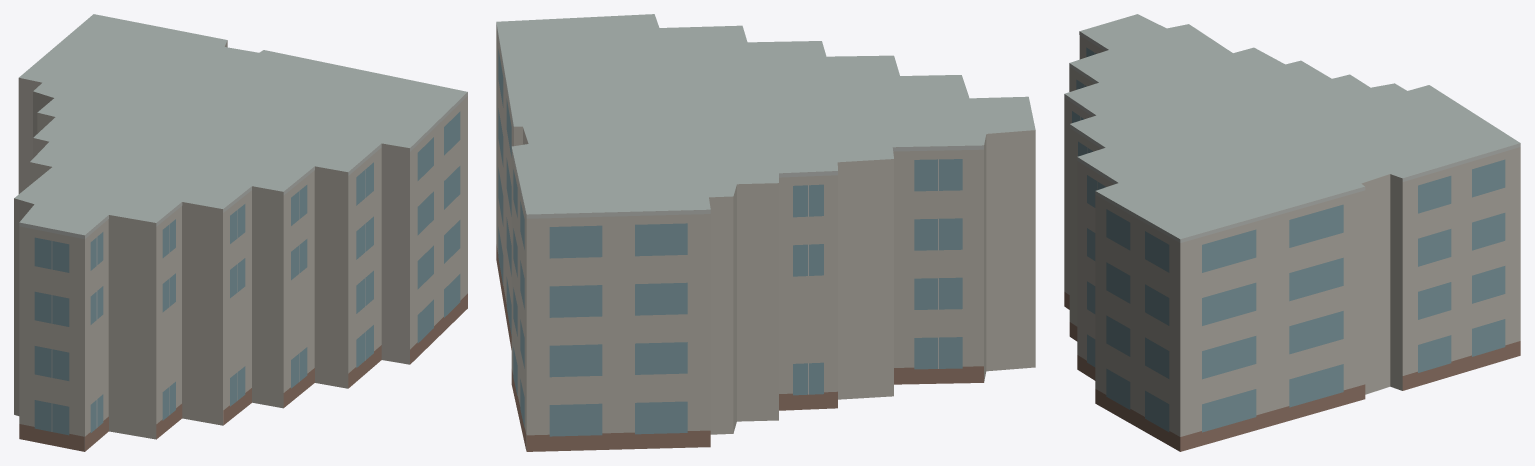
The model's file is survey-upis-32923714.glb.
3 views of the same model, side by side, from view 1: azimuth 30°, elevation 25°; view 2: azimuth 150°, elevation 25°; view 3: azimuth 270°, elevation 25° (orthographic). The views are drawn at different scales.
Parts seen in each view (by area): view 1: survey-upis-32923714.tmp; view 2: survey-upis-32923714.tmp; view 3: survey-upis-32923714.tmp.
Boxes of the visible parts, box(x1,y1,x2,y2) form: survey-upis-32923714.tmp: box(14, 14, 467, 451); survey-upis-32923714.tmp: box(496, 14, 1035, 451); survey-upis-32923714.tmp: box(1064, 14, 1520, 451).
Size of the model in its own units: 30.69 by 13.5 by 26.27.
